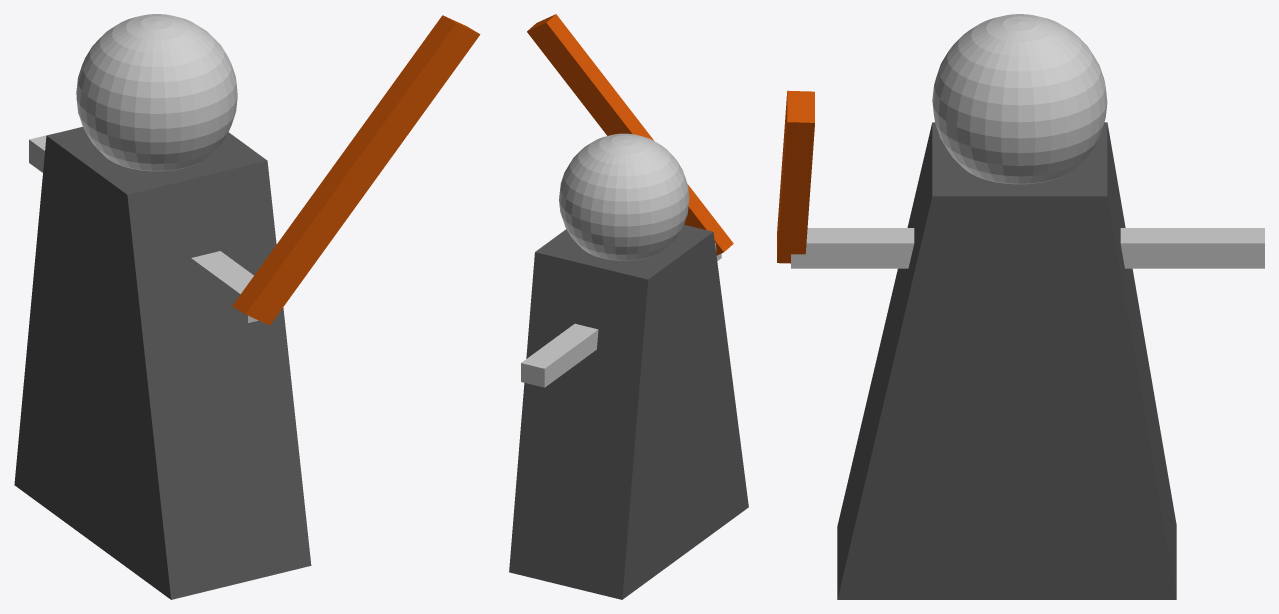
File: granny.obj
3 views of the same model, side by side, from view 1: azimuth 30°, elevation 25°; view 2: azimuth 150°, elevation 25°; view 3: azimuth 270°, elevation 25° (orthographic). The views are drawn at different scales.
Visible parts, largest first — view 1: Cube_Material, Sphere_Material.001, Cube.003_Material.002, Cube.002_Cube.002; view 2: Cube_Material, Sphere_Material.001, Cube.003_Material.002, Cube.001_Cube.001; view 3: Cube_Material, Sphere_Material.001, Cube.001_Cube.001, Cube.003_Material.002, Cube.002_Cube.002.
Part boxes in pixels (box(x1,y1,x2,y2)): Cube_Material: box(14, 127, 311, 599); Sphere_Material.001: box(76, 14, 237, 171); Cube.003_Material.002: box(232, 15, 480, 325); Cube.002_Cube.002: box(191, 251, 258, 322); Cube_Material: box(509, 224, 748, 599); Sphere_Material.001: box(559, 133, 689, 260); Cube.003_Material.002: box(527, 14, 733, 255); Cube.001_Cube.001: box(521, 323, 598, 387); Cube_Material: box(837, 122, 1176, 599); Sphere_Material.001: box(932, 14, 1107, 184); Cube.001_Cube.001: box(1120, 228, 1264, 268); Cube.003_Material.002: box(777, 90, 814, 263); Cube.002_Cube.002: box(791, 228, 914, 268).
Bounding box in the file's own units: 4.08 × 7.23 × 5.57.
